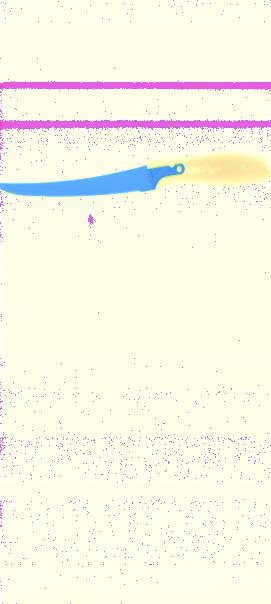Knife: (1, 155, 269, 199)
